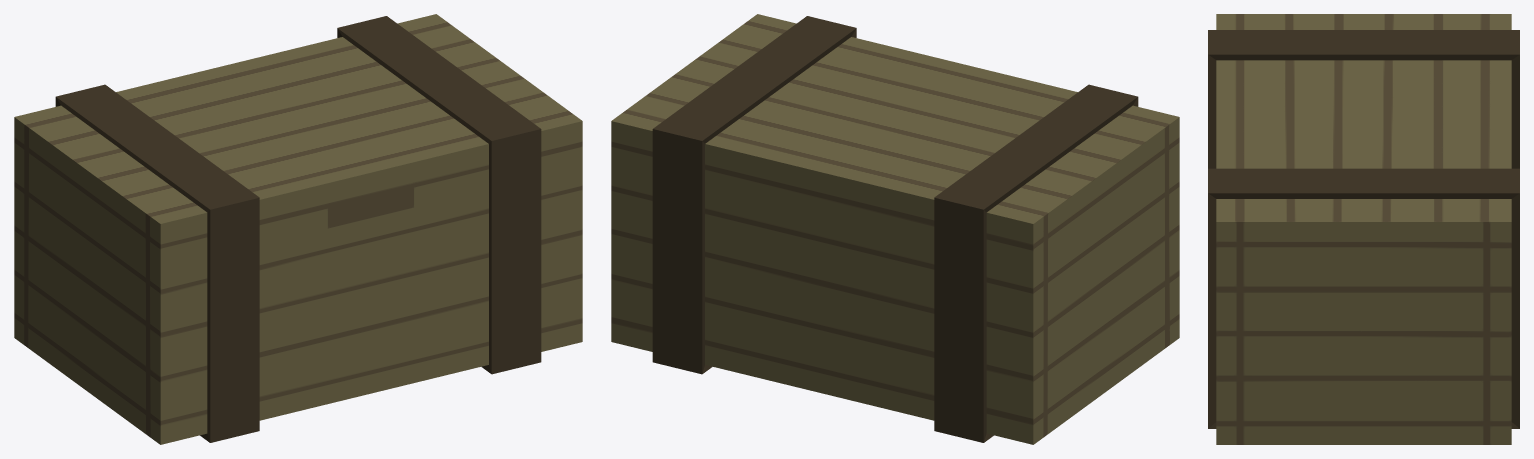
File: Wooden Crate Medium.glb
3 views of the same model, side by side, from view 1: azimuth 30°, elevation 25°; view 2: azimuth 150°, elevation 25°; view 3: azimuth 270°, elevation 25° (orthographic).
Visible parts, largest first — view 1: Wooden Crate Medium; view 2: Wooden Crate Medium; view 3: Wooden Crate Medium.
Part boxes in pixels (x1,y1,x2,y2): Wooden Crate Medium: (14,14,582,444); Wooden Crate Medium: (611,14,1179,444); Wooden Crate Medium: (1208,14,1519,444).
Size of the model in its own units: 1.55 by 0.8171 by 0.9805.
2 materials, 1 textured.
